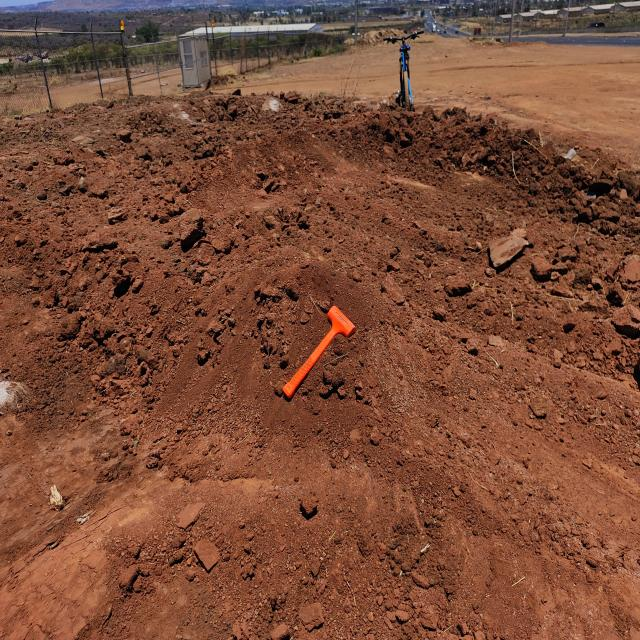Orange_hammer: (281, 304, 356, 400)
